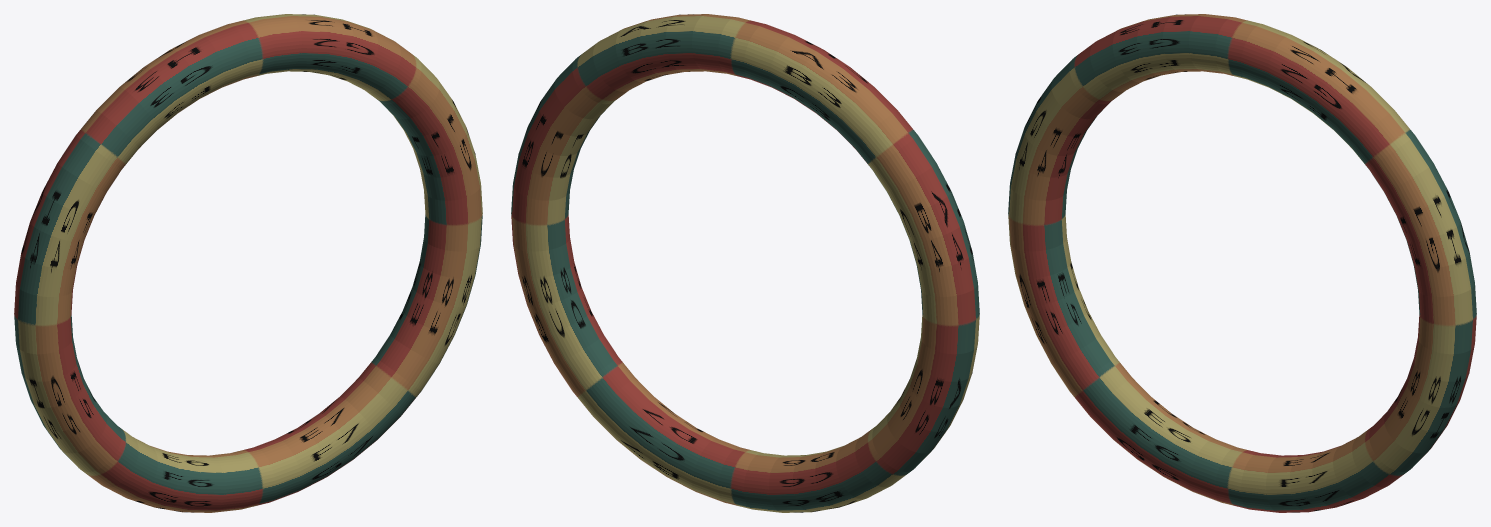
Rendered from texture_torus_R23_r4.glb.
3 renders of one model, left to right at view 1: azimuth 30°, elevation 25°; view 2: azimuth 150°, elevation 25°; view 3: azimuth 330°, elevation 25°, orthographic.
Parts seen in each view (by area): view 1: world; view 2: world; view 3: world.
Boxes of the visible parts, bbox=[...] form: world: bbox=[14, 14, 482, 512]; world: bbox=[511, 14, 979, 512]; world: bbox=[1008, 14, 1476, 512].
Size of the model in its own units: 28.4 by 28.34 by 3.06.
1 material, 1 textured.
